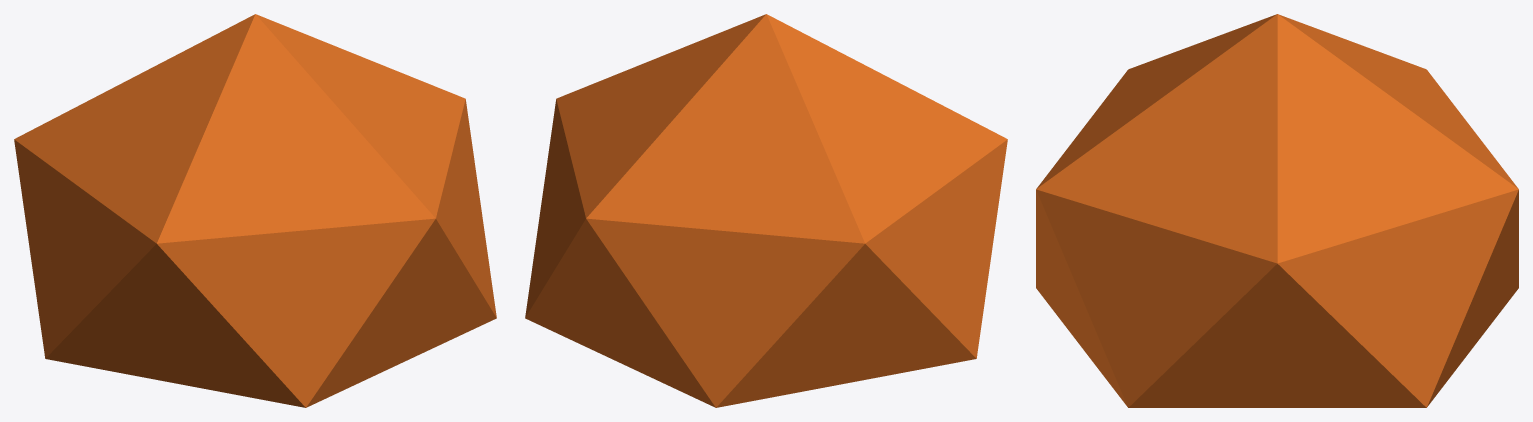
The model's file is shrub02.fbx.
The picture shows the model from 3 angles, left to right: view 1: azimuth 30°, elevation 25°; view 2: azimuth 150°, elevation 25°; view 3: azimuth 270°, elevation 25°; orthographic projection. The views are drawn at different scales.
Visible parts, largest first — view 1: Icosphere; view 2: Icosphere; view 3: Icosphere.
Part boxes in pixels (bbox=[...]): Icosphere: bbox=[14, 14, 496, 407]; Icosphere: bbox=[525, 14, 1007, 407]; Icosphere: bbox=[1036, 14, 1518, 407].
Size of the model in its own units: 179 by 143 by 170.
